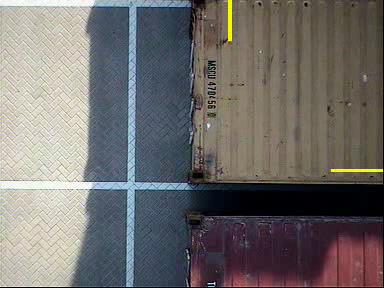groundmarker_2: (117, 75, 164, 106), (120, 201, 166, 232)
